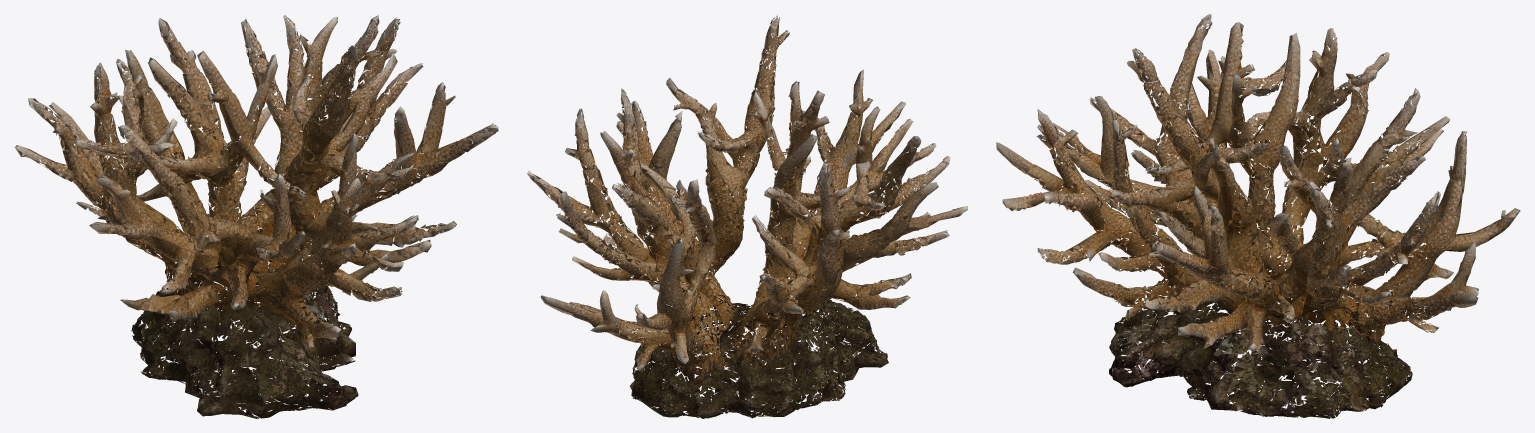
The model's file is staghorn-unbaked-lod.glb.
3 views of the same model, side by side, from view 1: azimuth 30°, elevation 25°; view 2: azimuth 150°, elevation 25°; view 3: azimuth 270°, elevation 25° (orthographic). The views are drawn at different scales.
Parts seen in each view (by area): view 1: PixForge Staghorn Coral — review LOD; view 2: PixForge Staghorn Coral — review LOD; view 3: PixForge Staghorn Coral — review LOD.
Boxes of the visible parts, <box> form: PixForge Staghorn Coral — review LOD: <box>14,14,498,418</box>; PixForge Staghorn Coral — review LOD: <box>527,14,967,418</box>; PixForge Staghorn Coral — review LOD: <box>996,14,1520,418</box>.
Bounding box in the file's own units: 0.8722 × 0.7056 × 0.9781.
1 material, 1 textured.
